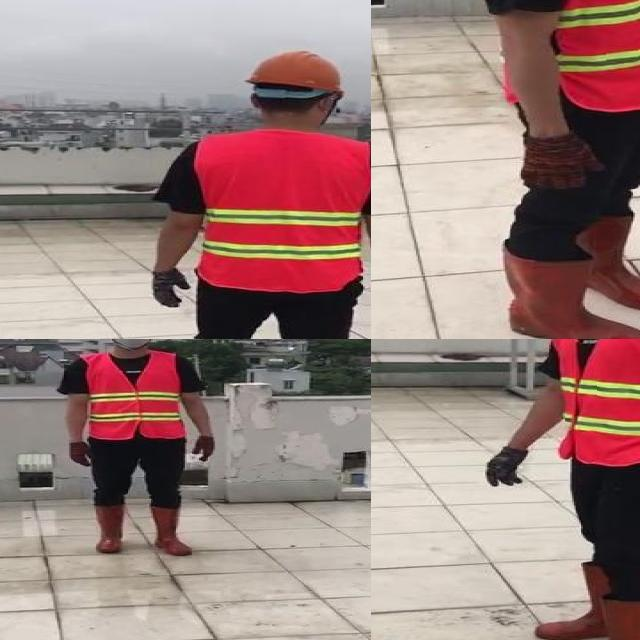boots: (499, 240, 640, 339), (536, 562, 640, 640), (576, 209, 640, 309), (547, 599, 640, 640), (147, 507, 190, 557), (90, 502, 128, 554)
hand_glove: (517, 133, 603, 191), (487, 446, 528, 488), (150, 269, 188, 307)
head_helmet: (53, 339, 228, 557), (238, 46, 348, 95)
person: (146, 46, 371, 339), (458, 0, 640, 339), (472, 339, 640, 640)
vest: (194, 131, 371, 291), (497, 0, 640, 111), (552, 339, 640, 464), (83, 351, 185, 441)
